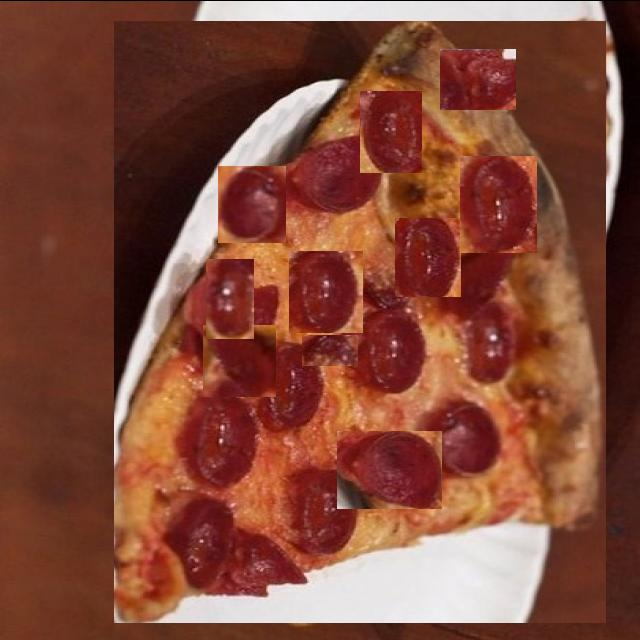pepperoni: (437, 280, 524, 378), (338, 430, 443, 508), (460, 155, 537, 252), (289, 250, 363, 332), (203, 324, 276, 396), (218, 165, 286, 242), (395, 217, 461, 296), (360, 90, 422, 172), (440, 48, 516, 109), (489, 53, 537, 145), (207, 258, 254, 338), (412, 59, 475, 88), (302, 334, 358, 365)
pizza: (114, 20, 606, 622)
